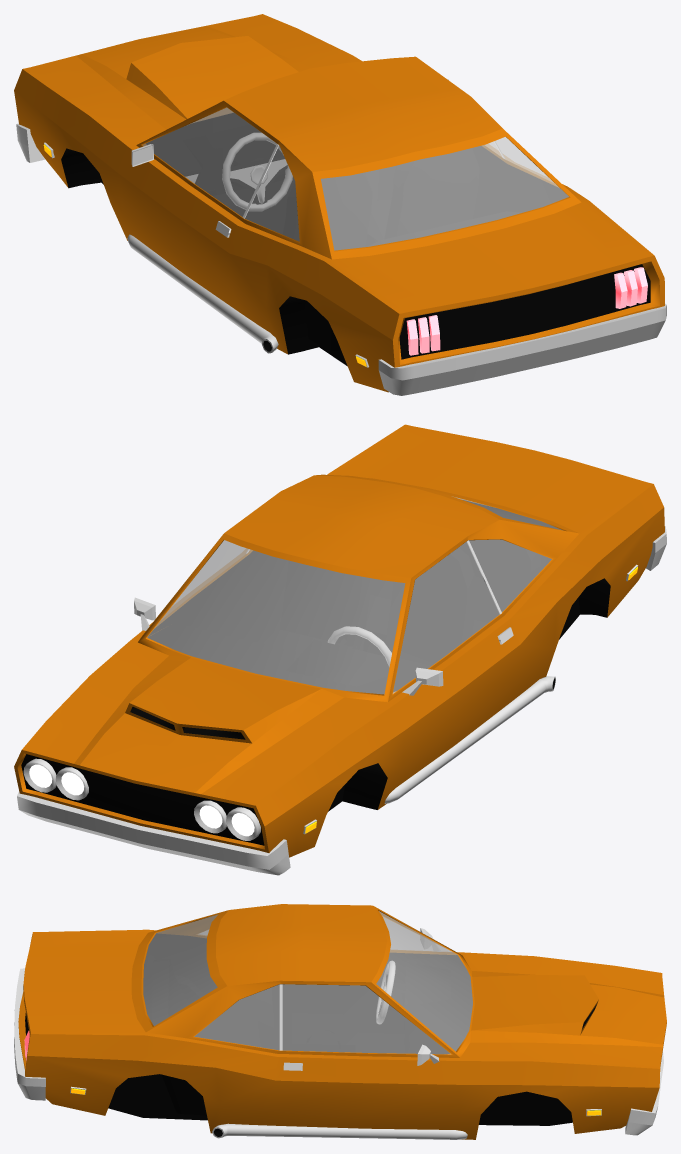
File: car.glb
3 views of the same model, one above another, from view 1: azimuth 30°, elevation 25°; view 2: azimuth 150°, elevation 25°; view 3: azimuth 270°, elevation 25° (orthographic). The views are drawn at different scales.
Parts seen in each view (by area): view 1: Cube_0; view 2: Cube_0; view 3: Cube_0.
Boxes of the visible parts, x1=… form: Cube_0: x1=14, y1=14, x2=666, y2=395; Cube_0: x1=14, y1=424, x2=666, y2=875; Cube_0: x1=14, y1=904, x2=666, y2=1139.
Bounding box in the file's own units: 8.11 × 4.65 × 18.09.
